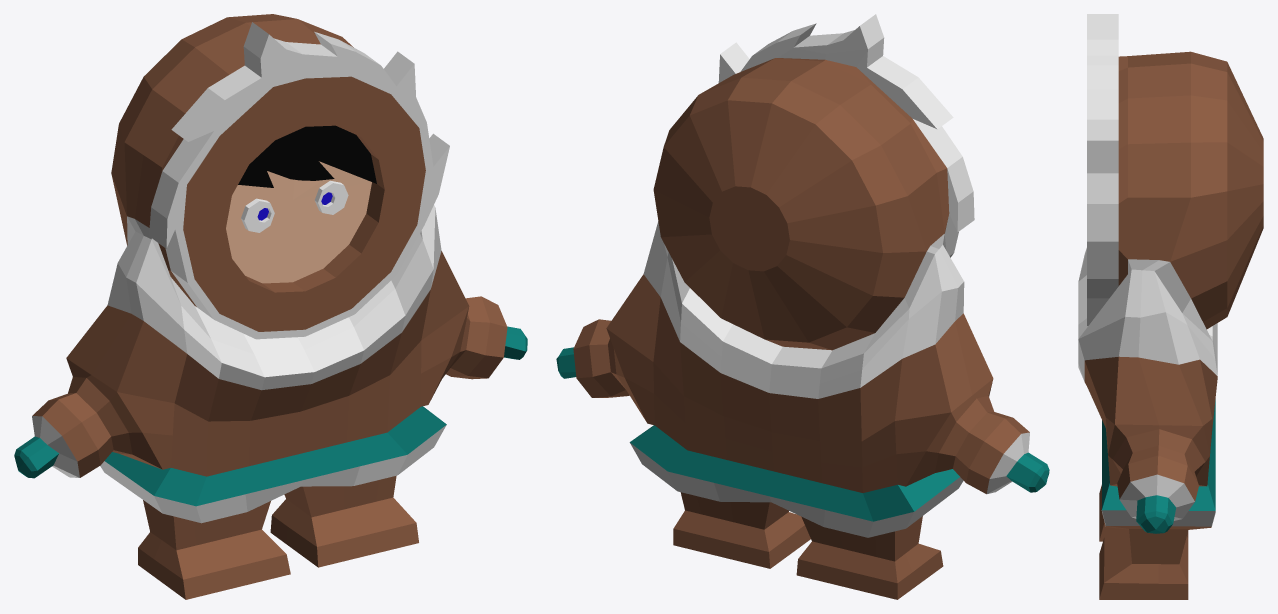
Rendered from Esquimo.gltf.
3 views of the same model, side by side, from view 1: azimuth 30°, elevation 25°; view 2: azimuth 150°, elevation 25°; view 3: azimuth 270°, elevation 25° (orthographic). The views are drawn at different scales.
Visible parts, largest first — view 1: Body, Eye Left, Eye Right; view 2: Body; view 3: Body.
Part boxes in pixels (left/top/right/bottom): Body: left=14, top=14, right=527, bottom=599; Eye Left: left=314, top=180, right=348, bottom=214; Eye Right: left=241, top=198, right=274, bottom=232; Body: left=556, top=14, right=1049, bottom=599; Body: left=1078, top=14, right=1263, bottom=599.
Bounding box in the file's own units: 1.61 × 1.67 × 0.5454.
